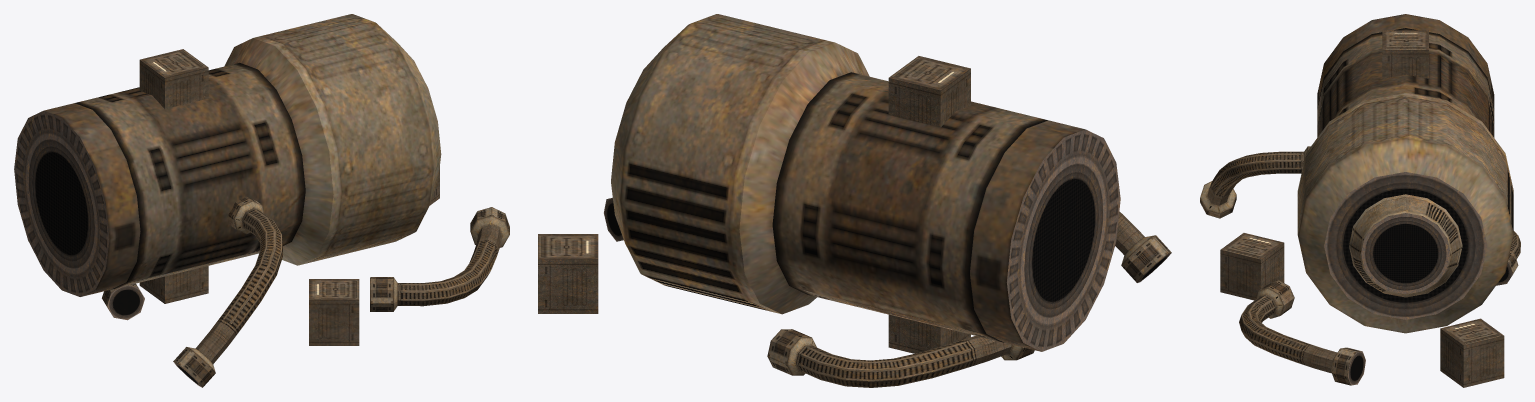
File: generator.fbx
3 renders of one model, left to right at view 1: azimuth 30°, elevation 25°; view 2: azimuth 150°, elevation 25°; view 3: azimuth 270°, elevation 25°, orthographic. The views are drawn at different scales.
Parts seen in each view (by area): view 1: Mesh; view 2: Mesh; view 3: Mesh.
Boxes of the visible parts, bbox=[...] form: Mesh: bbox=[14, 14, 509, 387]; Mesh: bbox=[538, 14, 1171, 387]; Mesh: bbox=[1200, 14, 1520, 387].
Size of the model in its own units: 160 by 84.8 by 115.
